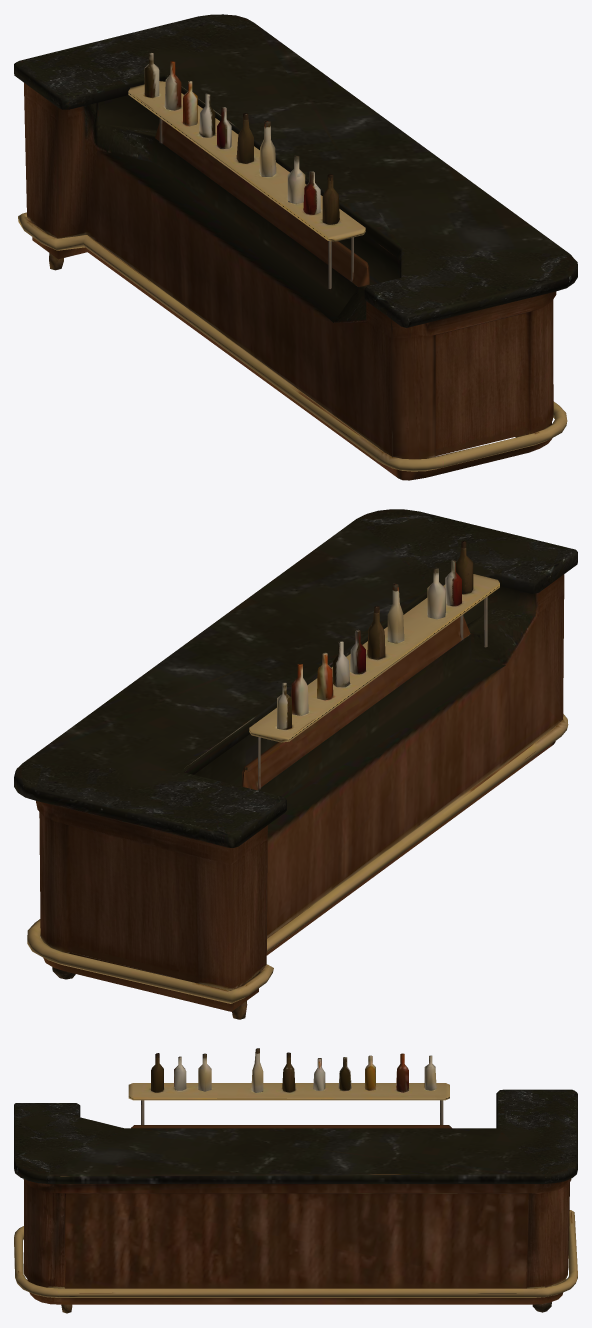
File: bar.glb
The picture shows the model from 3 angles, top to bottom: view 1: azimuth 30°, elevation 25°; view 2: azimuth 150°, elevation 25°; view 3: azimuth 270°, elevation 25°; orthographic projection. The views are drawn at different scales.
Parts seen in each view (by area): view 1: tripo_node_eda7e3a9-bd0d-4f05-bdc5-3d438c1171b4; view 2: tripo_node_eda7e3a9-bd0d-4f05-bdc5-3d438c1171b4; view 3: tripo_node_eda7e3a9-bd0d-4f05-bdc5-3d438c1171b4.
Part boxes in pixels (x1,y1,x2,y2): tripo_node_eda7e3a9-bd0d-4f05-bdc5-3d438c1171b4: (14,14,577,480); tripo_node_eda7e3a9-bd0d-4f05-bdc5-3d438c1171b4: (14,509,577,1019); tripo_node_eda7e3a9-bd0d-4f05-bdc5-3d438c1171b4: (14,1048,577,1313).
Size of the model in its own units: 0.3613 by 0.4121 by 0.998.
Materials: 1 (1 with a texture image).
